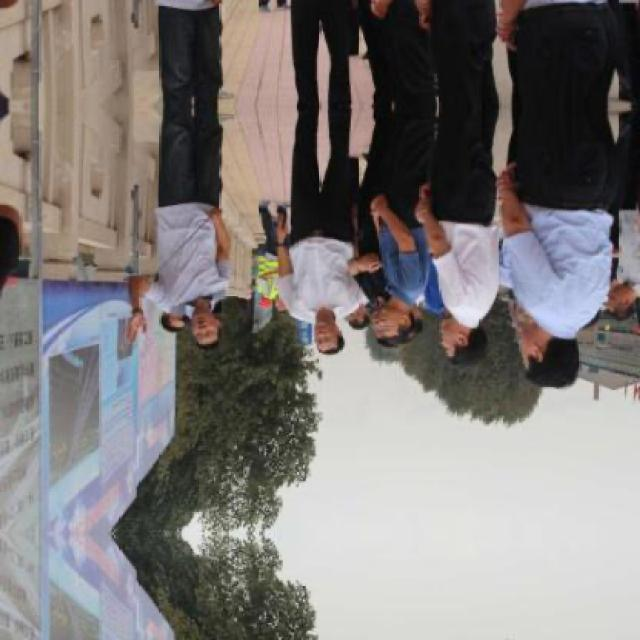sin casco: (505, 317, 586, 410), (164, 277, 232, 360), (369, 285, 432, 364), (306, 299, 366, 370), (419, 312, 486, 375)
